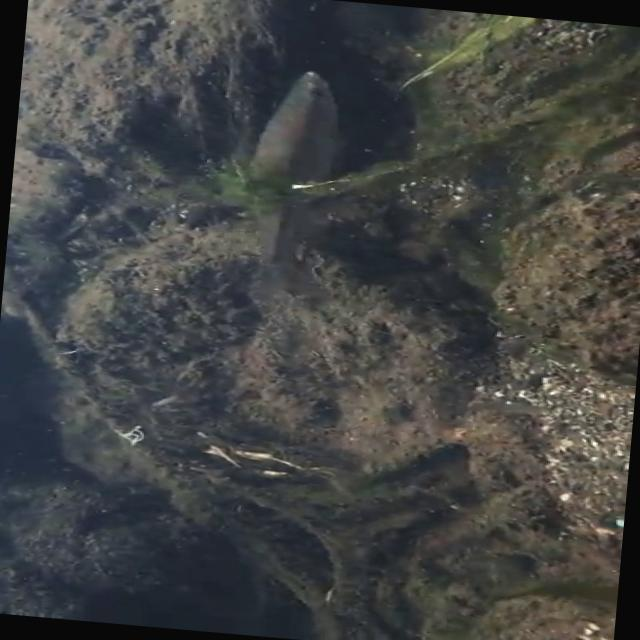Cakil Baligi: (204, 59, 366, 301)
